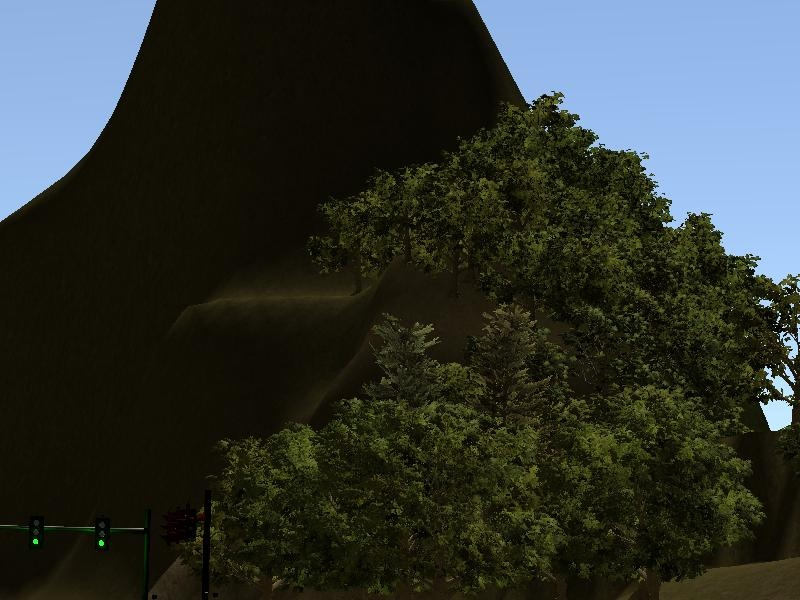Green: (94, 517, 110, 551), (28, 516, 44, 550)
